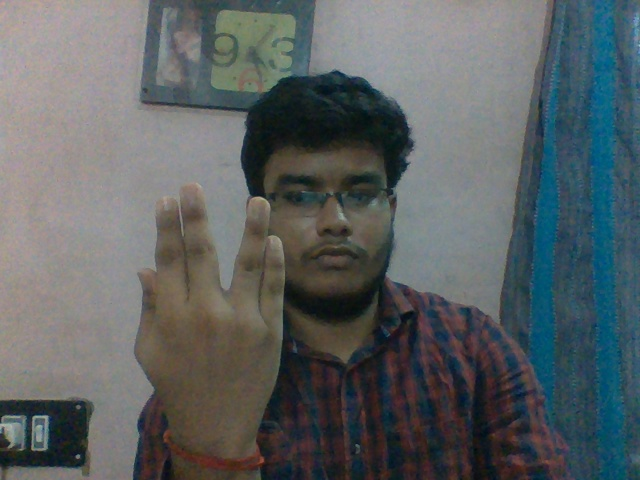LiveLong: (133, 181, 288, 459)
